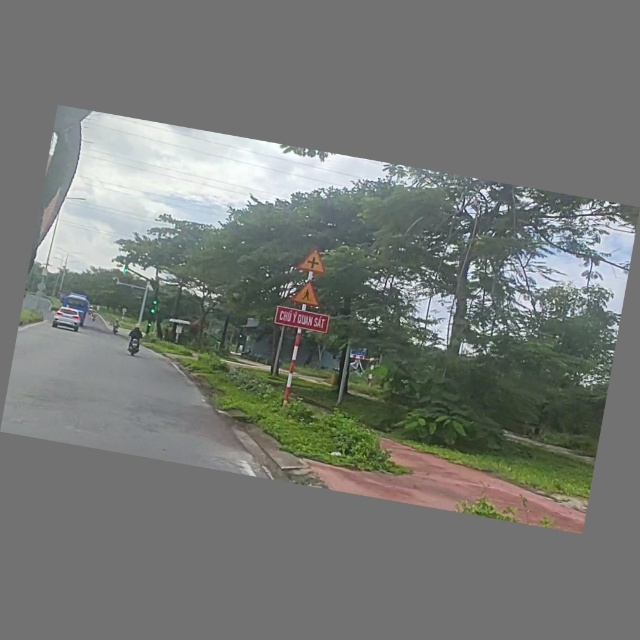W.205a: (297, 246, 332, 277)
W.224: (289, 277, 327, 310)
